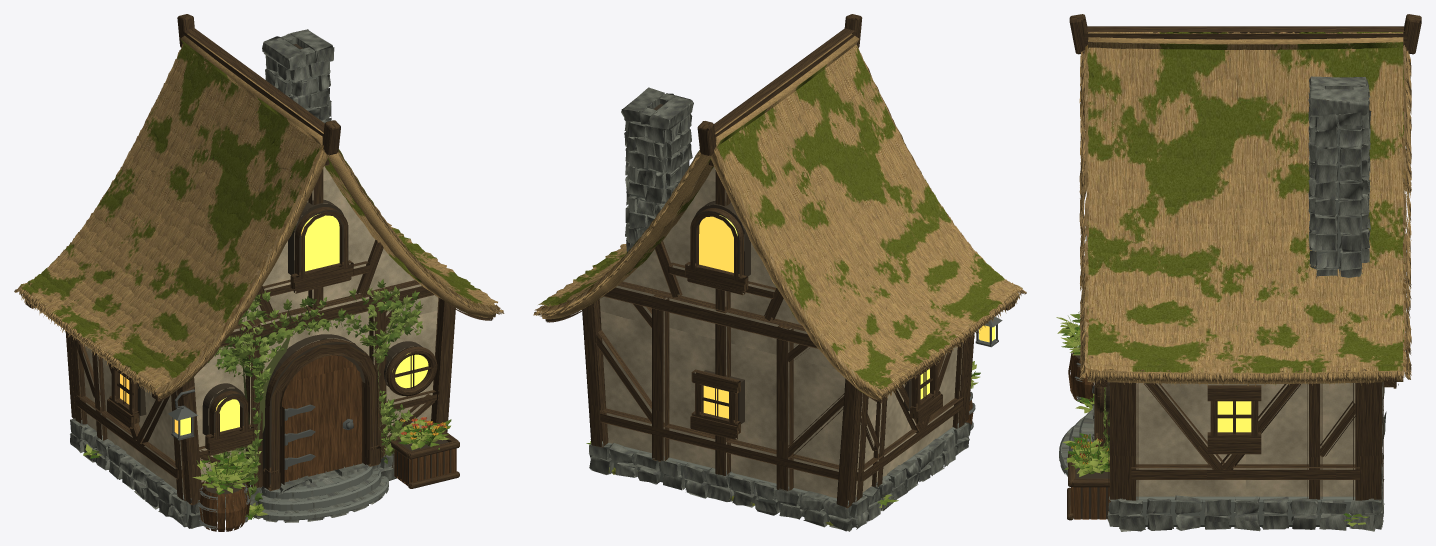
File: sc_cottage.glb
3 views of the same model, side by side, from view 1: azimuth 30°, elevation 25°; view 2: azimuth 150°, elevation 25°; view 3: azimuth 270°, elevation 25° (orthographic). The views are drawn at different scales.
Parts seen in each view (by area): view 1: Thatched roof, Timber frame, Front door, Plaster shell, Windows, Doorstep, Ivy • Left climb • leaves, Foundation, Stone chimney, Ivy • Right climb • leaves, Roof timber, Flower box (+6 smaller); view 2: Thatched roof, Plaster shell, Timber frame, Foundation, Windows, Stone chimney, Roof timber; view 3: Thatched roof, Plaster shell, Timber frame, Stone chimney, Foundation, Roof timber, Windows, Flower box, Flower box foliage, Doorstep, Barrel planter, Barrel foliage (+1 smaller).
Part boxes in pixels (<box>): Thatched roof: <box>14,33,504,398</box>; Timber frame: <box>65,168,455,505</box>; Front door: <box>262,334,380,491</box>; Plaster shell: <box>77,166,438,494</box>; Windows: <box>107,199,437,454</box>; Doorstep: <box>253,463,388,522</box>; Ivy • Left climb • leaves: <box>208,290,351,501</box>; Foundation: <box>70,418,396,528</box>; Stone chimney: <box>262,29,334,123</box>; Ivy • Right climb • leaves: <box>335,279,423,463</box>; Roof timber: <box>25,14,493,401</box>; Flower box: <box>388,431,459,488</box>; Thatched roof: <box>533,33,1026,400</box>; Plaster shell: <box>599,167,962,498</box>; Timber frame: <box>582,170,974,508</box>; Foundation: <box>589,422,971,531</box>; Windows: <box>685,200,942,439</box>; Stone chimney: <box>621,87,693,279</box>; Roof timber: <box>545,14,1014,403</box>; Thatched roof: <box>1079,32,1411,386</box>; Plaster shell: <box>1136,383,1355,496</box>; Timber frame: <box>1107,307,1383,500</box>; Stone chimney: <box>1308,76,1371,278</box>; Foundation: <box>1107,382,1386,531</box>; Roof timber: <box>1069,14,1421,387</box>; Windows: <box>1095,382,1396,454</box>; Flower box: <box>1067,454,1110,520</box>; Flower box foliage: <box>1062,433,1109,476</box>; Doorstep: <box>1059,404,1094,476</box>; Barrel planter: <box>1068,346,1094,406</box>; Barrel foliage: <box>1056,311,1085,355</box>.
Size of the model in its own units: 6.13 by 6.53 by 4.89.
Materials: 26 (7 with a texture image).
